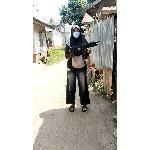Senapan: (67, 38, 103, 58)
